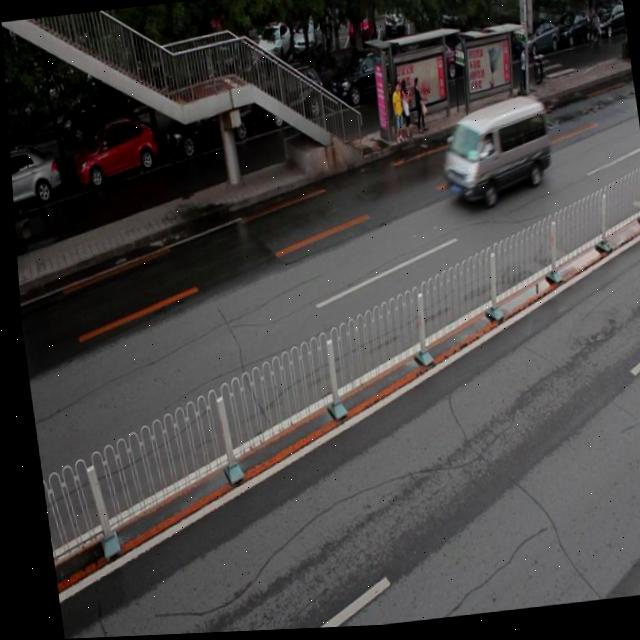car: (159, 89, 255, 164), (68, 117, 159, 193), (325, 47, 402, 112), (255, 67, 326, 132), (8, 149, 60, 214)
truck: (431, 100, 552, 214)
